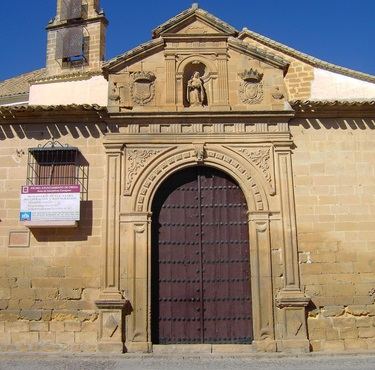arco-medio-punto: (145, 158, 254, 227)
fronton: (158, 11, 231, 40)
